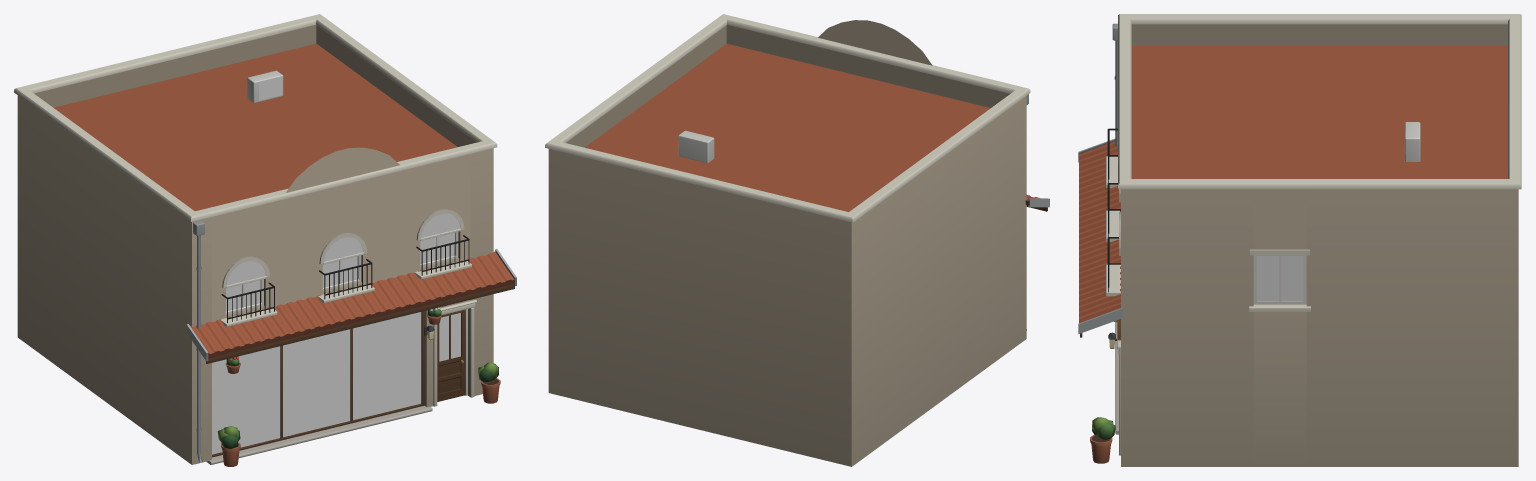
The model's file is ShopMission.fbx.
3 views of the same model, side by side, from view 1: azimuth 30°, elevation 25°; view 2: azimuth 150°, elevation 25°; view 3: azimuth 270°, elevation 25° (orthographic). The views are drawn at different scales.
Parts seen in each view (by area): view 1: ShopMission; view 2: ShopMission; view 3: ShopMission.
Boxes of the visible parts, left/top/right/bottom form: ShopMission: left=14, top=14, right=516, bottom=466; ShopMission: left=545, top=14, right=1049, bottom=466; ShopMission: left=1078, top=14, right=1521, bottom=466.
Bounding box in the file's own units: 9.26 × 8.01 × 10.04.
